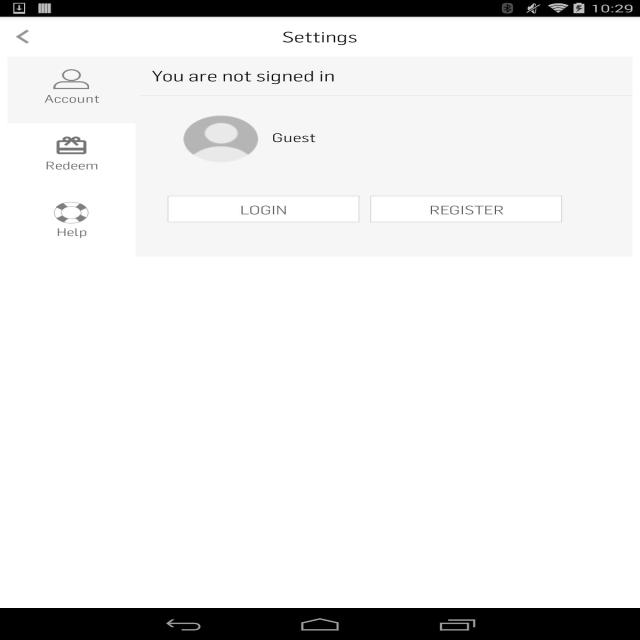button: (11, 184, 128, 251), (11, 59, 128, 122), (12, 123, 130, 182), (167, 196, 358, 223), (371, 197, 562, 220), (7, 24, 40, 51)
heading: (150, 68, 341, 86), (278, 29, 360, 47)
image: (180, 116, 261, 162), (45, 63, 97, 91), (50, 197, 90, 223), (52, 132, 91, 154)
text: (40, 157, 102, 174), (40, 92, 105, 106), (270, 131, 322, 145), (46, 225, 92, 239)
